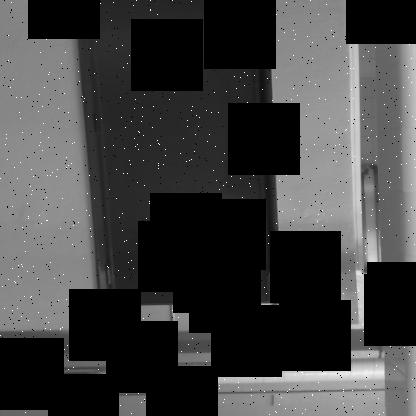Porte: (73, 1, 284, 307)
